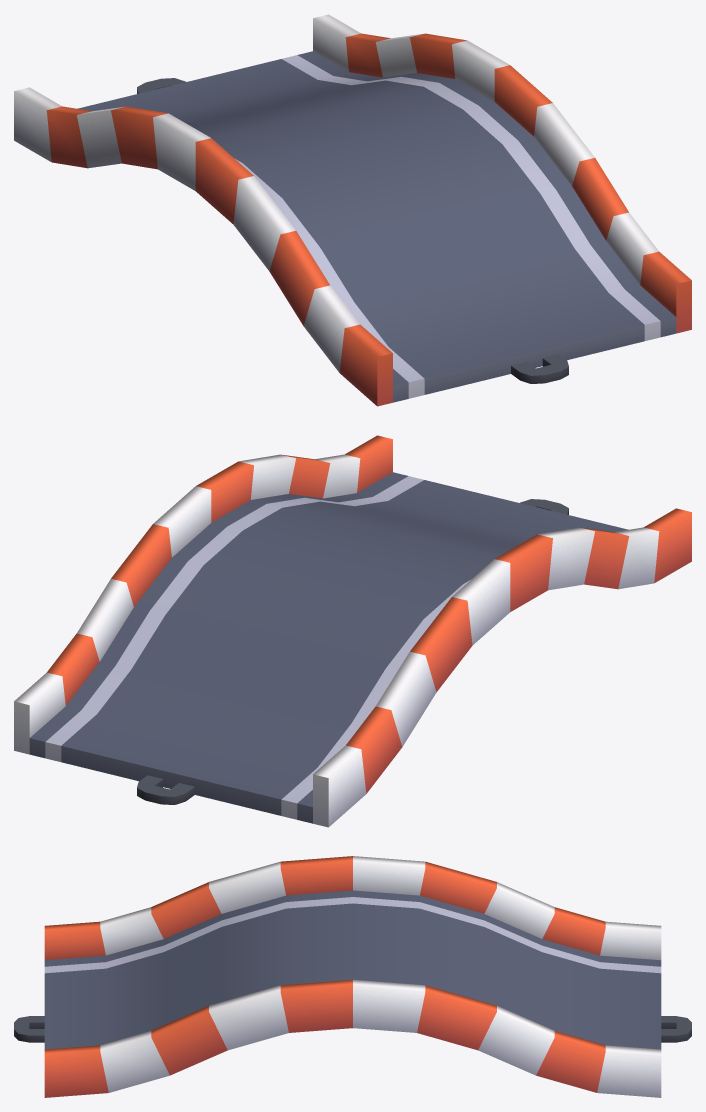
File: track-road-wide-straight-bump-up.glb
3 views of the same model, one above another, from view 1: azimuth 30°, elevation 25°; view 2: azimuth 150°, elevation 25°; view 3: azimuth 270°, elevation 25° (orthographic). The views are drawn at different scales.
Parts seen in each view (by area): view 1: track-road-wide-straight-bump-up; view 2: track-road-wide-straight-bump-up; view 3: track-road-wide-straight-bump-up.
Boxes of the visible parts, box(x1,y1,x2,y2) form: track-road-wide-straight-bump-up: box(14, 14, 691, 406); track-road-wide-straight-bump-up: box(14, 435, 691, 827); track-road-wide-straight-bump-up: box(14, 856, 691, 1097).
Size of the model in its own units: 2 by 0.7998 by 4.4.
Materials: 1 (1 with a texture image).
